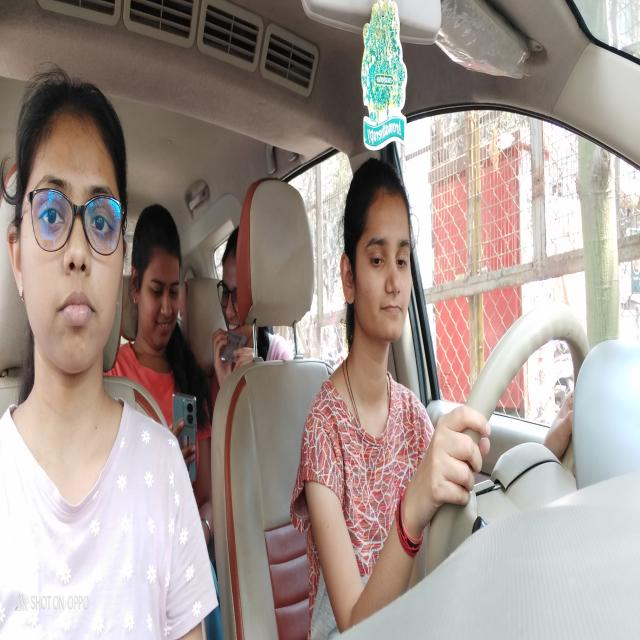person: (15, 100, 126, 378), (339, 171, 416, 343), (133, 214, 183, 352), (218, 240, 251, 349)
